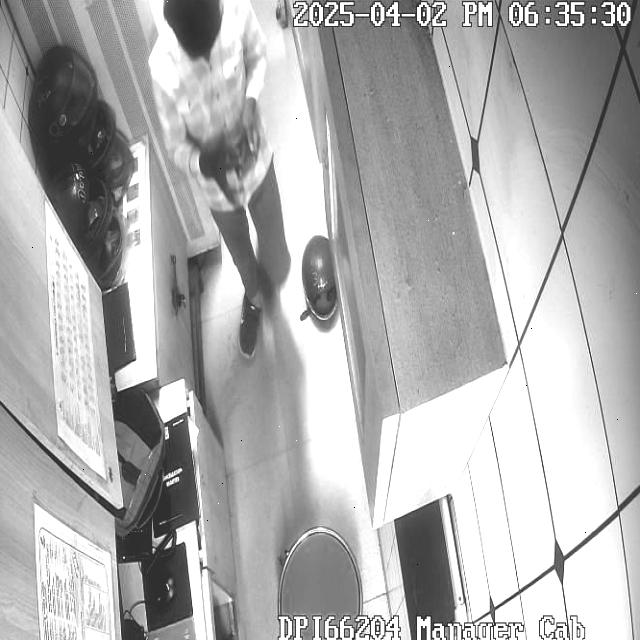helmet: (28, 45, 100, 148), (44, 159, 113, 260), (301, 235, 339, 325)
